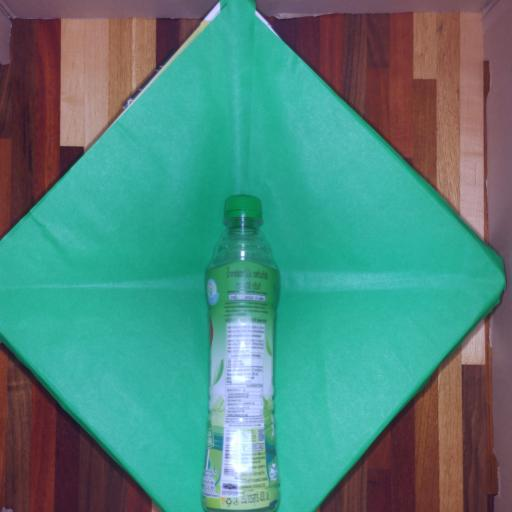bottle: (187, 181, 287, 512)
